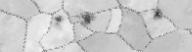good_void: (78, 9, 98, 28), (149, 6, 167, 22), (55, 16, 62, 23)
